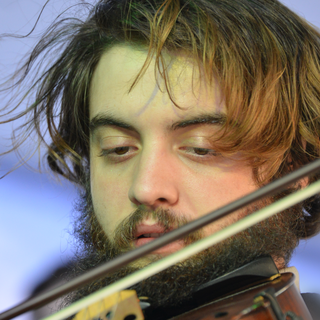eye: (177, 140, 225, 164), (100, 140, 144, 163)
